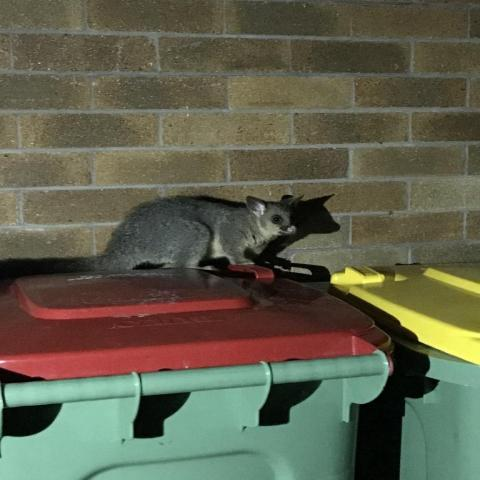small_animal: (2, 191, 340, 280)
